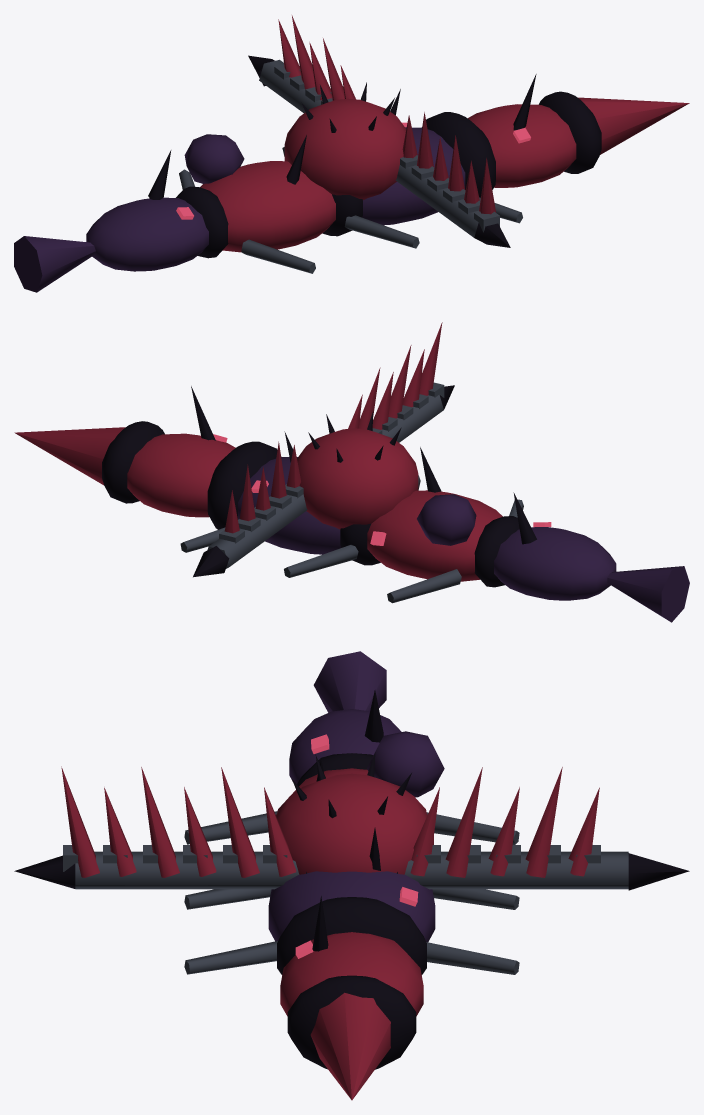
The model's file is precentor-directorate.glb.
3 renders of one model, top to bottom at view 1: azimuth 30°, elevation 25°; view 2: azimuth 150°, elevation 25°; view 3: azimuth 270°, elevation 25°, orthographic. The views are drawn at different scales.
Parts seen in each view (by area): view 1: dome, tergite_1, tergite_0, tergite_3, telson, array_boom, rostrum, tergite_2, tergite_seam_2, tergite_seam_3, dome_aft, tergite_seam_0 (+13 smaller); view 2: dome, tergite_0, tergite_3, tergite_1, array_boom, telson, tergite_seam_2, rostrum, tergite_2, tergite_seam_3, dome_aft, tergite_seam_0 (+13 smaller); view 3: dome, array_boom, tergite_3, tergite_2, rostrum, tergite_seam_2, tergite_seam_3, tergite_0, telson, dome_aft, limb_s2, limb_p2 (+18 smaller).
Boxes of the visible parts, x1,y1,x2,y2 form: dome: (284,98,406,199); tergite_1: (200,161,335,252); tergite_0: (86,197,208,271); tergite_3: (468,104,576,187); telson: (14,236,95,292); array_boom: (259,59,478,237); rostrum: (578,97,689,154); tergite_2: (362,127,465,225); tergite_seam_2: (422,112,495,197); tergite_seam_3: (539,91,601,173); dome_aft: (184,134,244,183); tergite_seam_0: (176,186,228,258); dome: (297,428,418,529); tergite_0: (494,527,616,600); tergite_3: (127,433,235,517); tergite_1: (367,490,502,581); array_boom: (207,394,443,568); telson: (607,566,689,622); tergite_seam_2: (207,441,281,529); rostrum: (14,427,125,485); tergite_2: (238,457,341,554); tergite_seam_3: (102,421,164,503); dome_aft: (417,494,476,545); tergite_seam_0: (474,516,519,587); dome: (276,773,433,874); array_boom: (75,851,628,889); tergite_3: (280,932,423,1016); tergite_2: (268,871,435,942); rostrum: (310,992,390,1100); tergite_seam_2: (277,897,426,975); tergite_seam_3: (287,975,416,1069); tergite_0: (289,709,401,784); telson: (313,651,386,712); dome_aft: (367,731,444,797); limb_s2: (184,941,277,974); limb_p2: (426,942,519,974).
Size of the model in its own units: 60 by 12.86 by 41.25.
